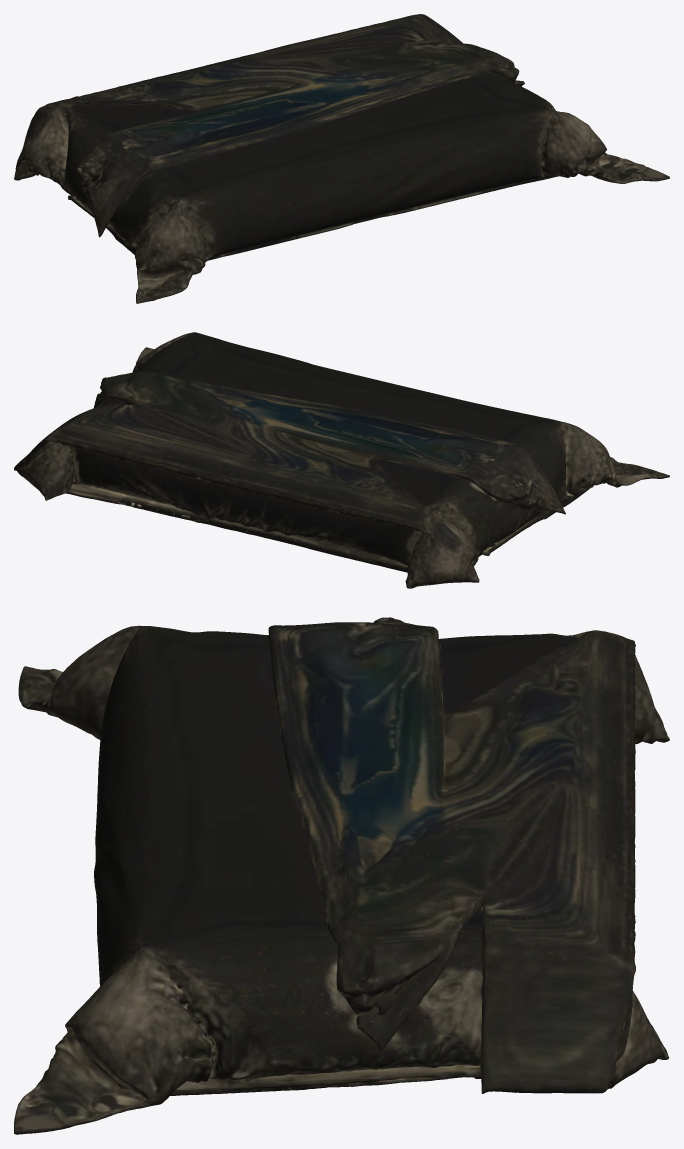
File: gen_4b1719431e9c.glb
3 renders of one model, top to bottom at view 1: azimuth 30°, elevation 25°; view 2: azimuth 150°, elevation 25°; view 3: azimuth 270°, elevation 25°, orthographic. The views are drawn at different scales.
Parts seen in each view (by area): view 1: world; view 2: world; view 3: world.
Part boxes in pixels (x1,y1,x2,y2): world: (14,14,669,303); world: (14,332,669,588); world: (14,617,669,1134).
Size of the model in its own units: 1 by 0.1325 by 0.6016.
Materials: 1 (1 with a texture image).
